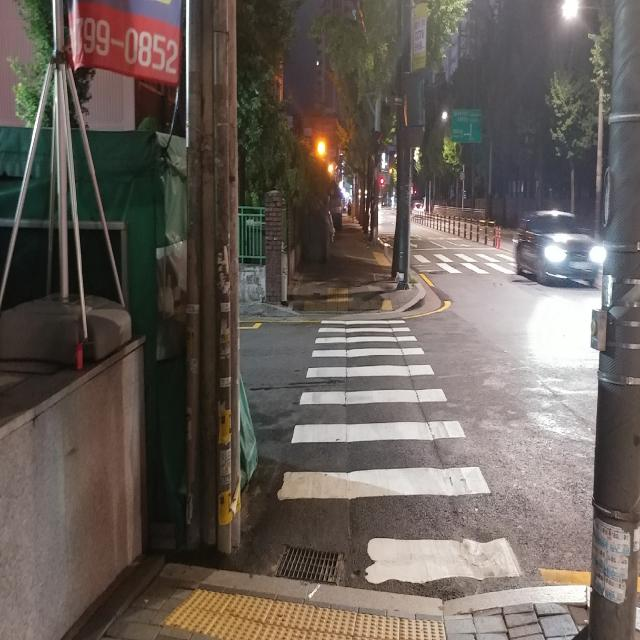횡단보도: (276, 316, 526, 588)
